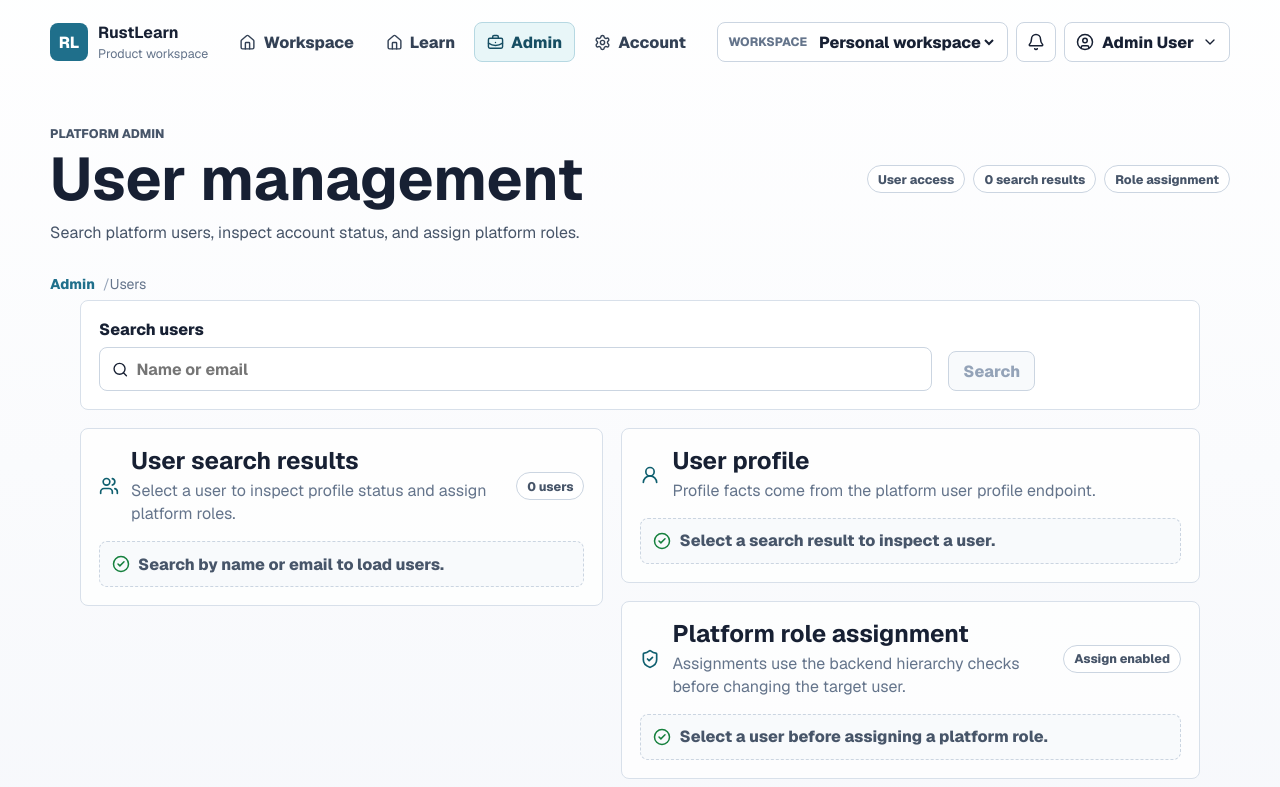
Test: AdminUsersRoute › searches users, loads selected profile, and assigns a platform role
Expected: the heading "User management" is shown, [50,149,583,209]
In the field labelled "Search users": (528, 369) [136,348,919,390], type "ada"
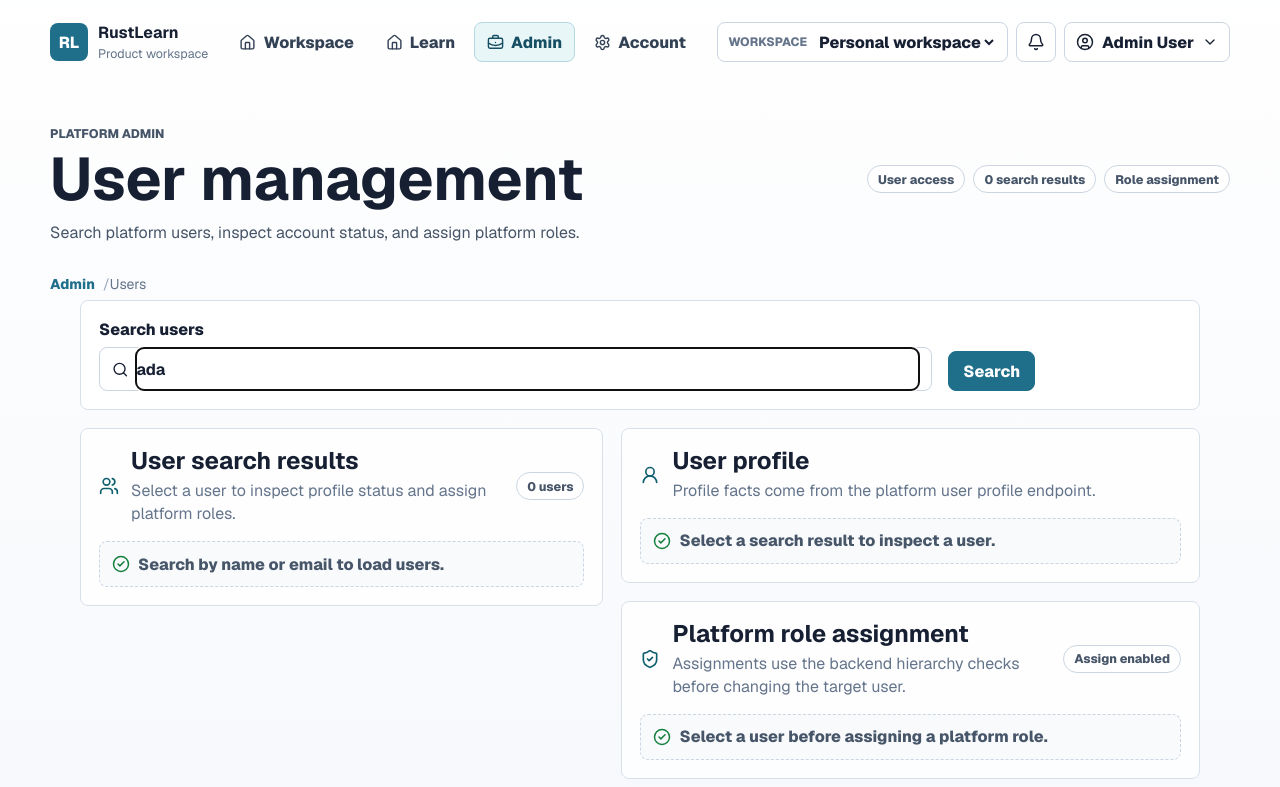
Click the button "Search": (992, 371) [948,351,1035,391]
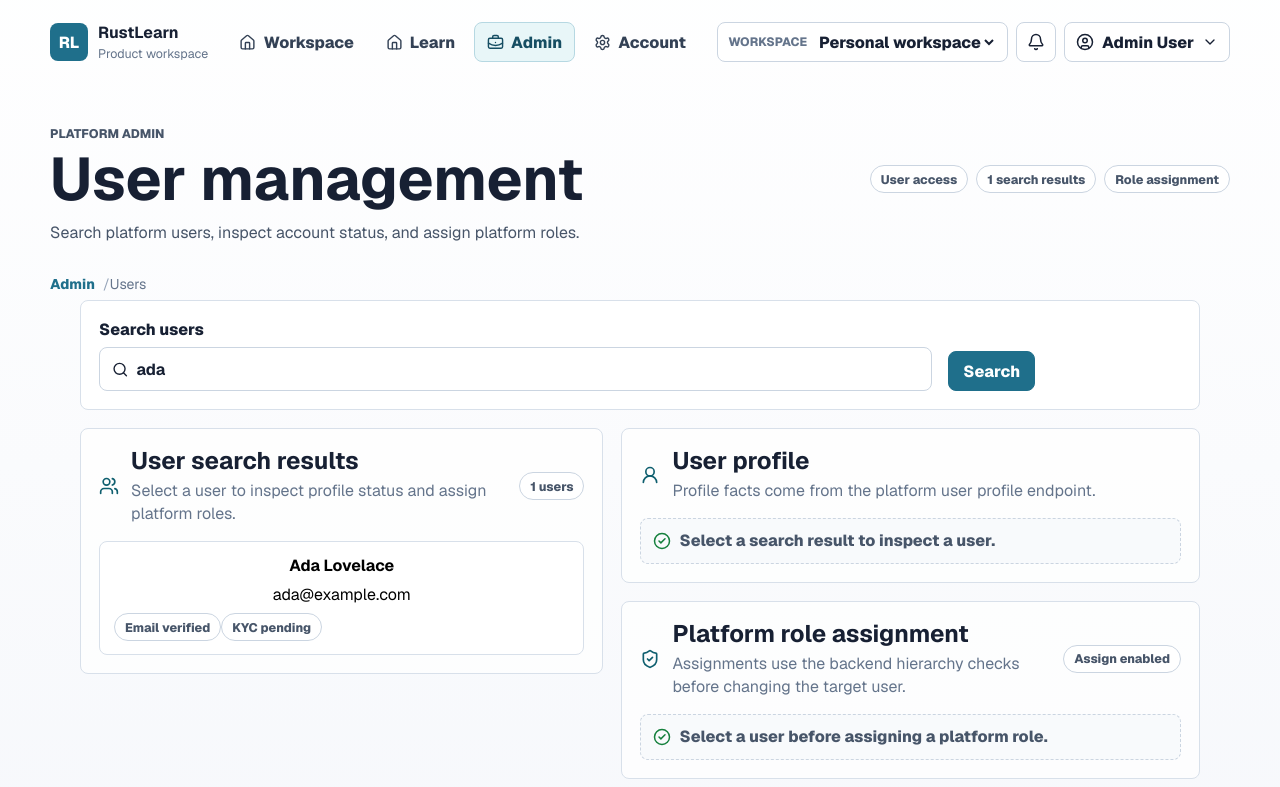
Click the button "Ada Lovelace ada@example.com Email verified KYC pending": (342, 598) [99,541,584,655]
(page scrolled)
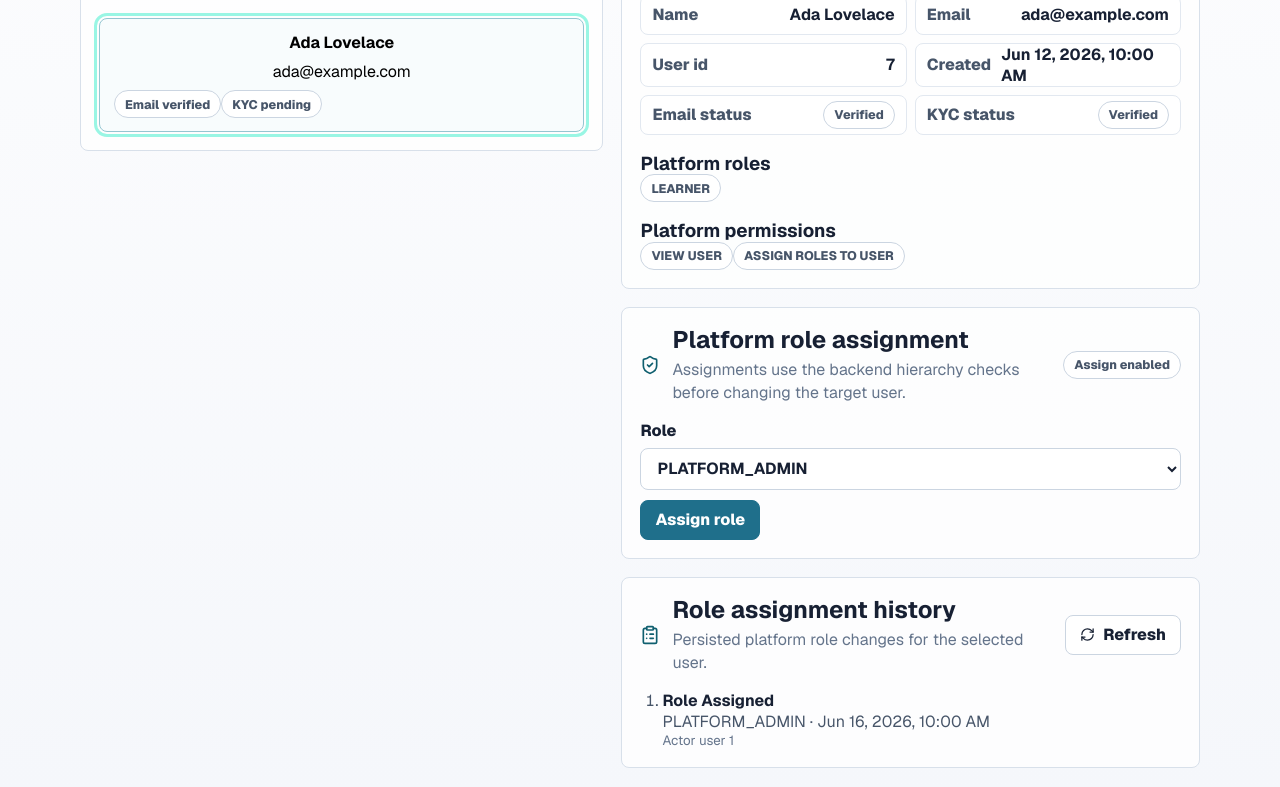
Result: the text "KYC status" is shown at [927,104,1015,125]
Result: the heading "Platform roles" is shown at [640,153,771,174]
Result: the text "Role Assigned" is shown at [662,690,774,711]
Select "PLATFORM_ADMIN" in the dropdown labelled "Role": (911, 469) [640,448,1181,490]
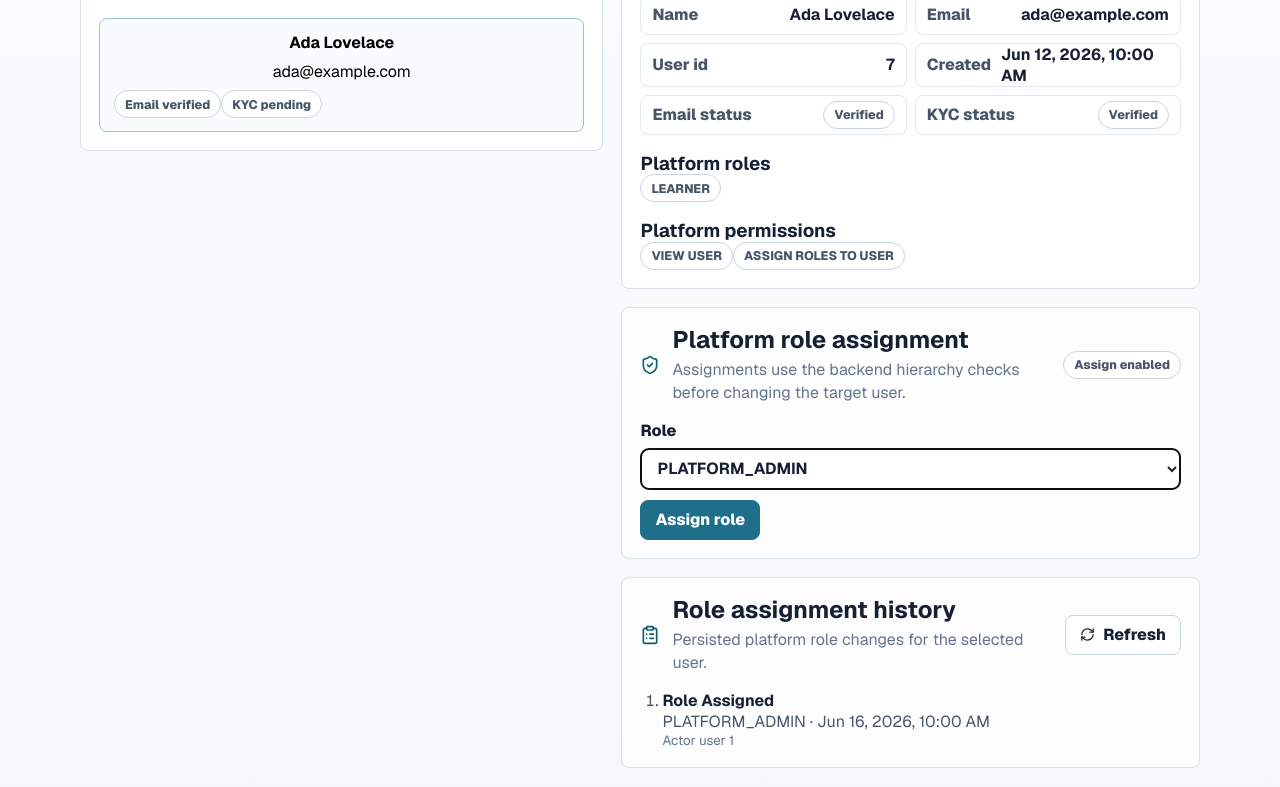
Click the button "Assign role": (700, 520) [640,500,760,540]
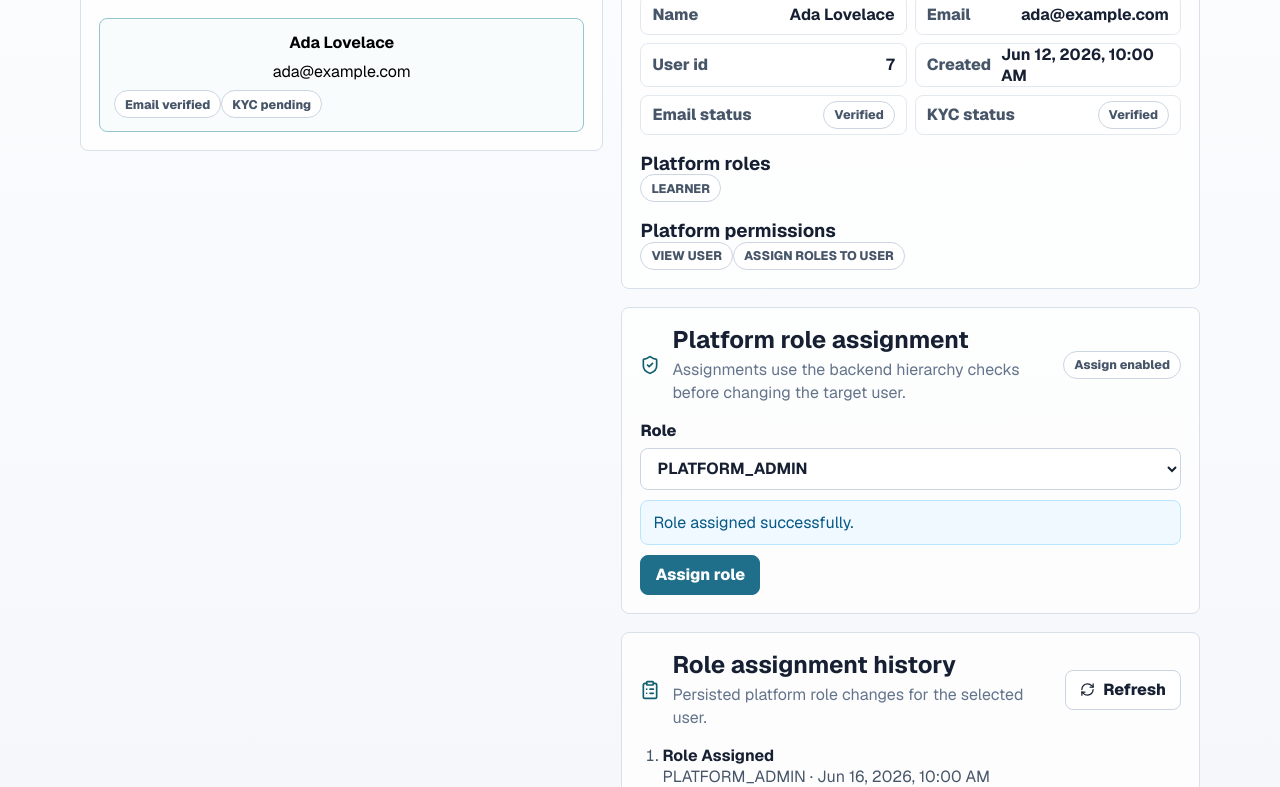
Result: the text "Role assigned successfully." is shown at [640,500,1181,545]
